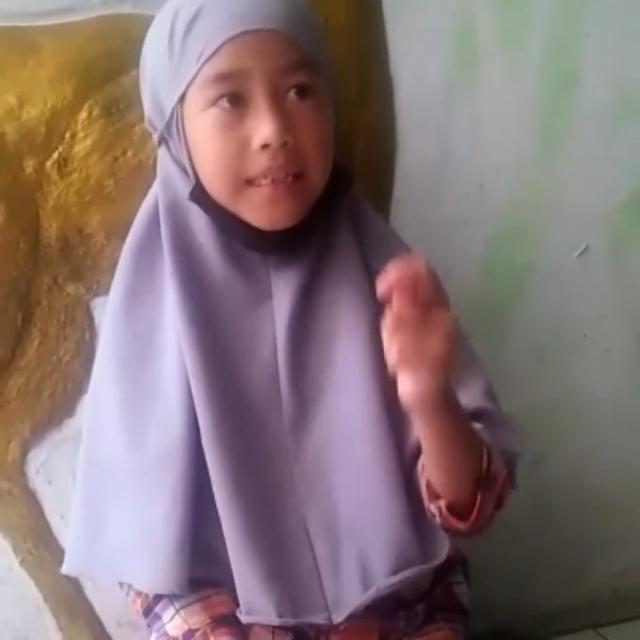T: (374, 255, 458, 411)
